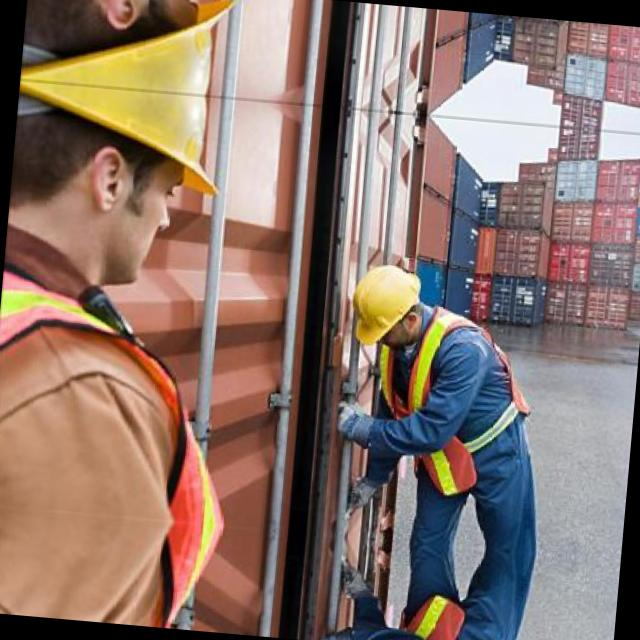helmet: (2, 78, 247, 302), (19, 0, 257, 101), (328, 243, 440, 374)
